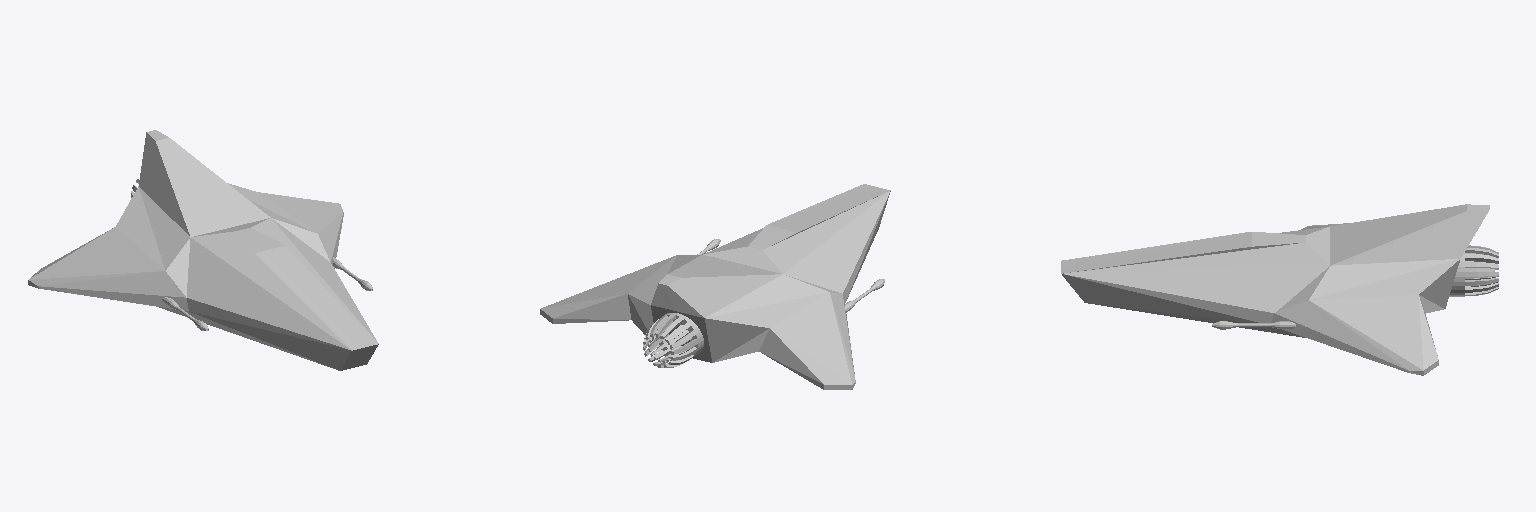
File: Vulture.obj
The picture shows the model from 3 angles: view 1: azimuth 30°, elevation 25°; view 2: azimuth 150°, elevation 25°; view 3: azimuth 270°, elevation 25°; orthographic projection.
Parts seen in each view (by area): view 1: Body, Gun; view 2: Body, Thruster; view 3: Body, Thruster.
Part boxes in pixels (left/top/right/bottom): Body: left=28, top=130, right=378, bottom=370; Gun: left=162, top=257, right=372, bottom=330; Body: left=540, top=184, right=890, bottom=389; Thruster: left=643, top=313, right=703, bottom=367; Body: left=1061, top=204, right=1489, bottom=375; Thruster: left=1449, top=245, right=1498, bottom=296.
Bounding box in the file's own units: 3.95 × 1.17 × 4.79.